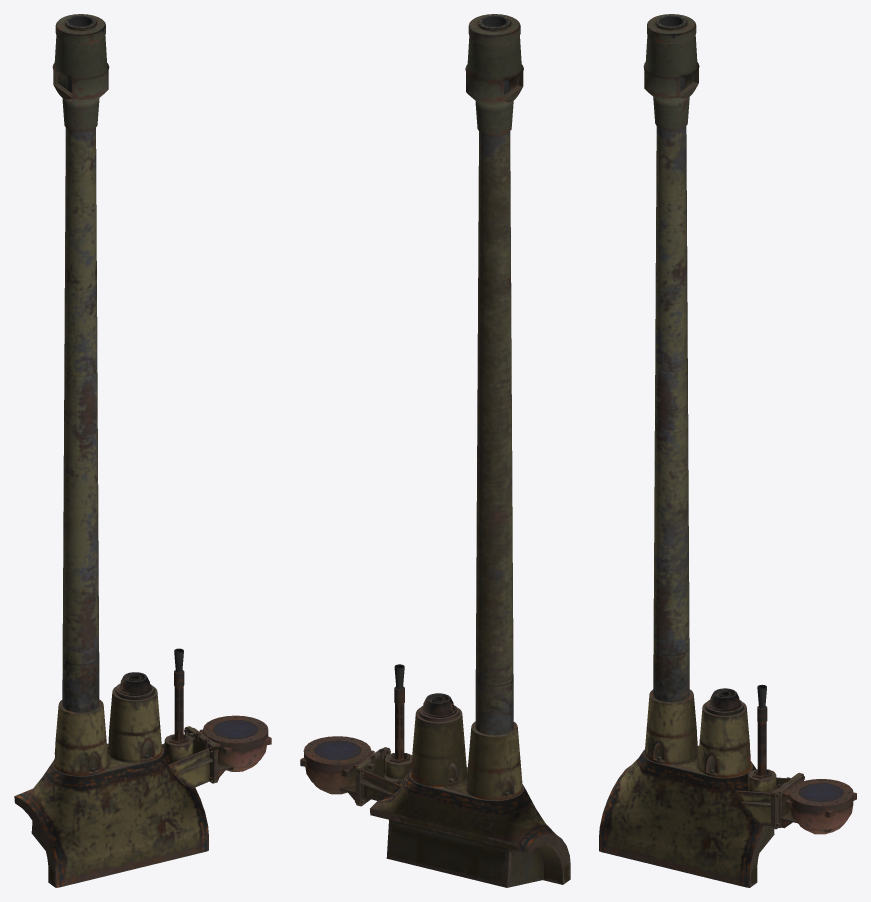
File: Gun_05.glb
3 views of the same model, side by side, from view 1: azimuth 30°, elevation 25°; view 2: azimuth 150°, elevation 25°; view 3: azimuth 330°, elevation 25° (orthographic). The views are drawn at different scales.
Parts seen in each view (by area): view 1: set_0_group_0; view 2: set_0_group_0; view 3: set_0_group_0.
Boxes of the visible parts, <box> form: set_0_group_0: <box>14,14,271,887</box>; set_0_group_0: <box>300,14,570,887</box>; set_0_group_0: <box>599,14,856,887</box>.
Size of the model in its own units: 1.53 by 5.28 by 0.4947.
1 material, 1 textured.
